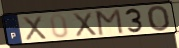0: (49, 13, 70, 39)
3: (124, 7, 144, 35)
M: (95, 7, 126, 37)
O: (146, 4, 173, 33)
X: (22, 14, 49, 42), (72, 11, 99, 38)
